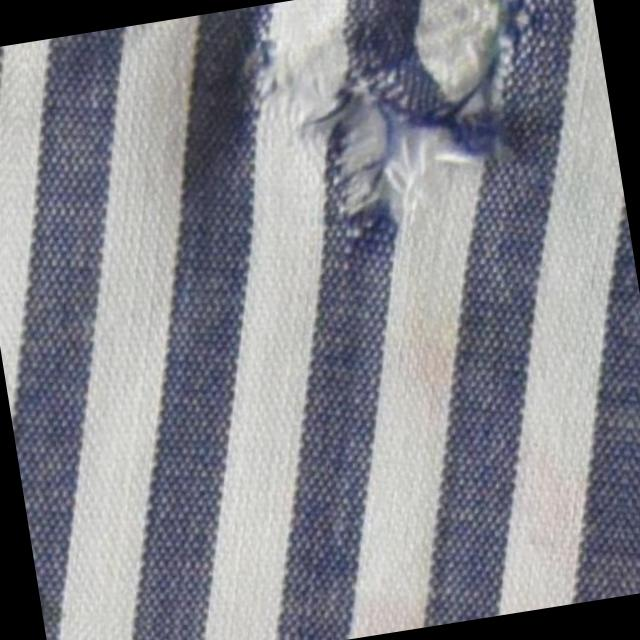cut: (255, 0, 525, 242)
